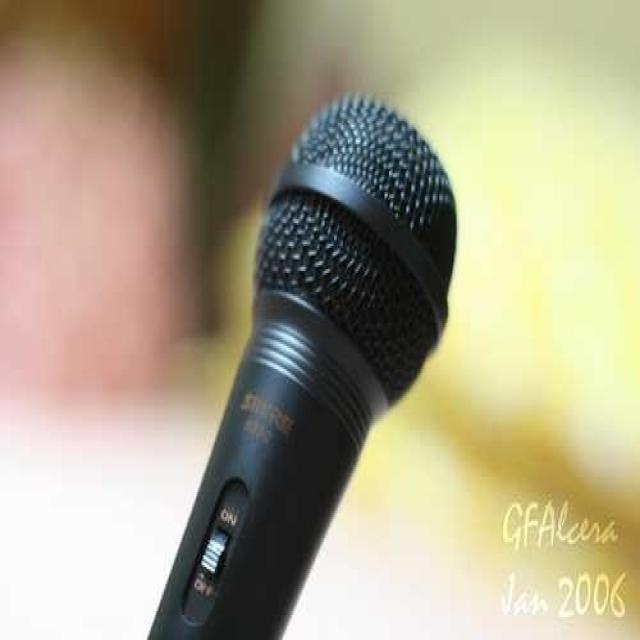microphone: (122, 90, 459, 640)
